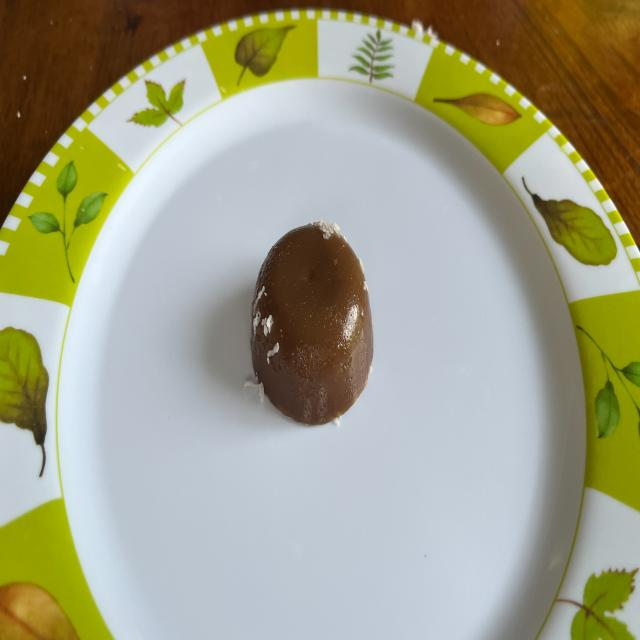Kuih lompang: (250, 220, 374, 424)
